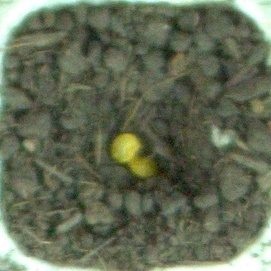pepper seed: (43, 62, 207, 244), (36, 50, 178, 215)
